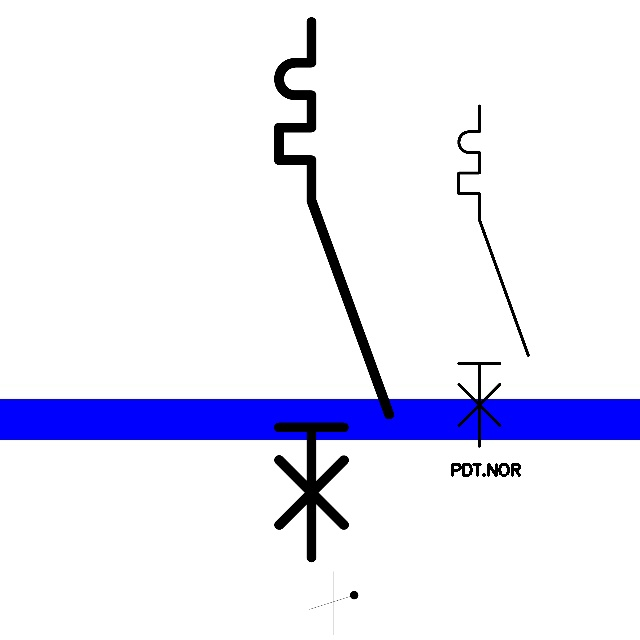interruptor_termomagnetico: (265, 8, 403, 571), (450, 97, 537, 455)
